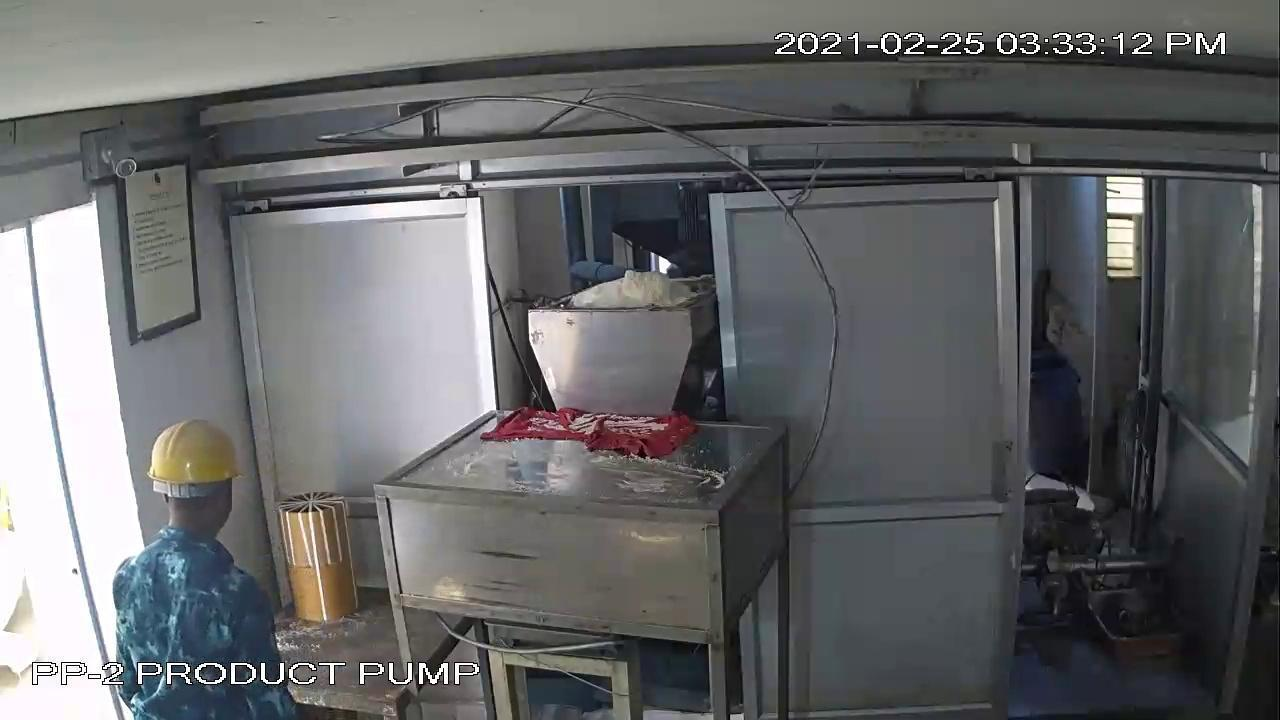helmet: (145, 412, 250, 496)
